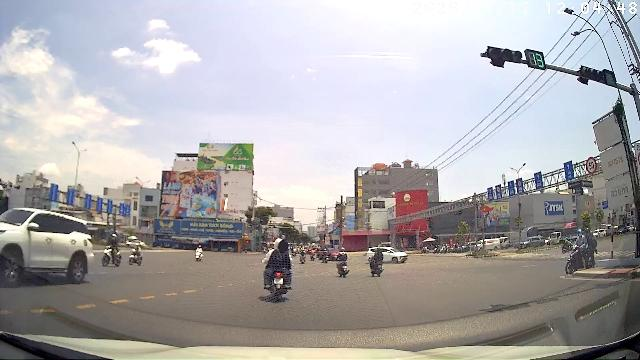127-toc-do-toi-da-50: (586, 157, 597, 175)
